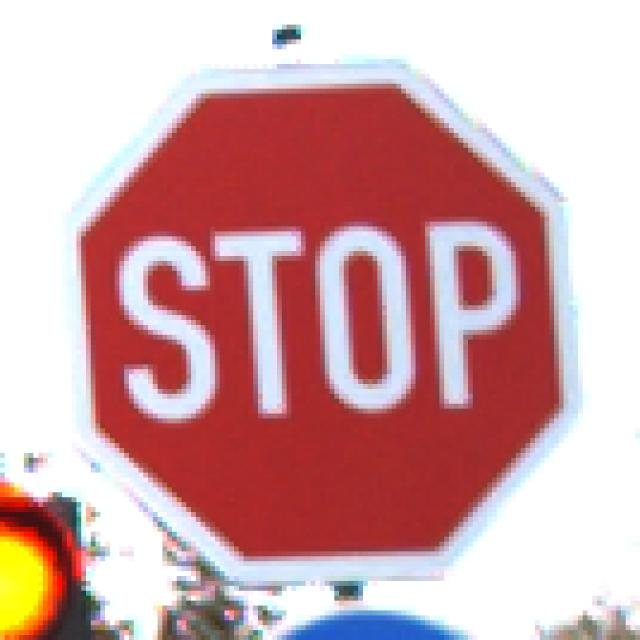STOP: (54, 55, 589, 587)
